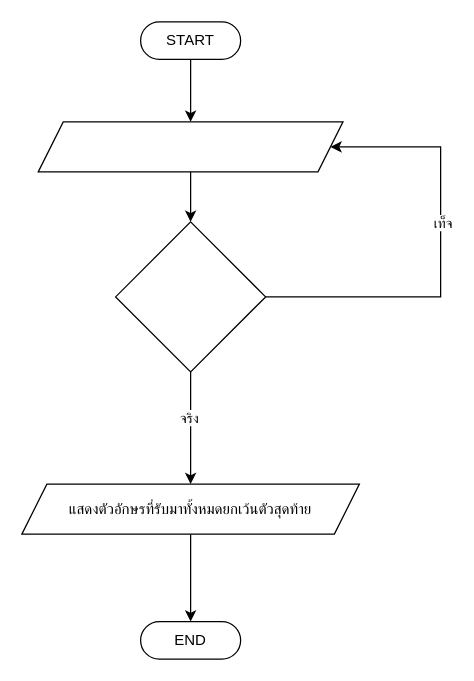
The diagram is 474 pixels wide and 681 high, and some of its shapes have lost their labels. The shapes that lost their labels are listed below. From the top down, each one's centre as x and y in pixels, then its label:
[190,146]: รับค่า 1 ตัวอักษรเก็บไว้ในตัวแปลสตริง
[190,296]: เมื่อตัวอักษรที่รับมาเท่ากับ 'Y' และ 'y'
